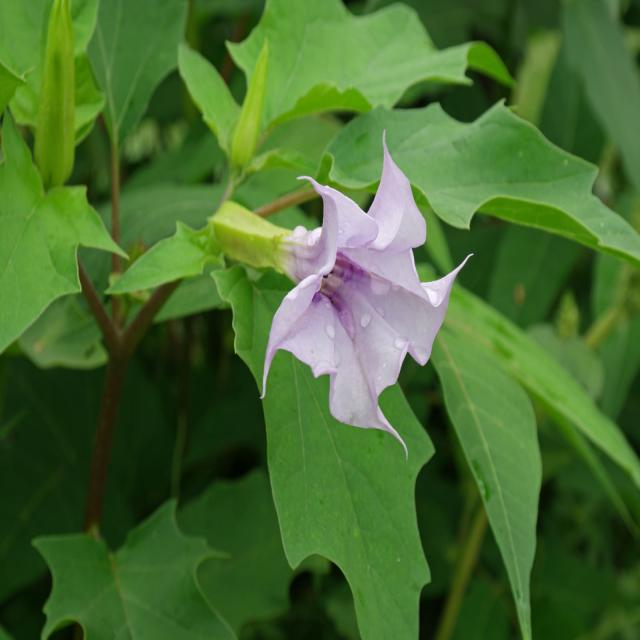Poisonous-Datura_Stramonium: (218, 152, 482, 457)
